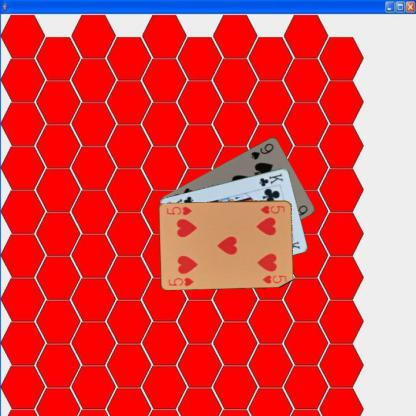5h: (166, 275, 195, 287), (258, 203, 286, 215)
9s: (248, 140, 275, 160)
Kc: (257, 171, 284, 188)
